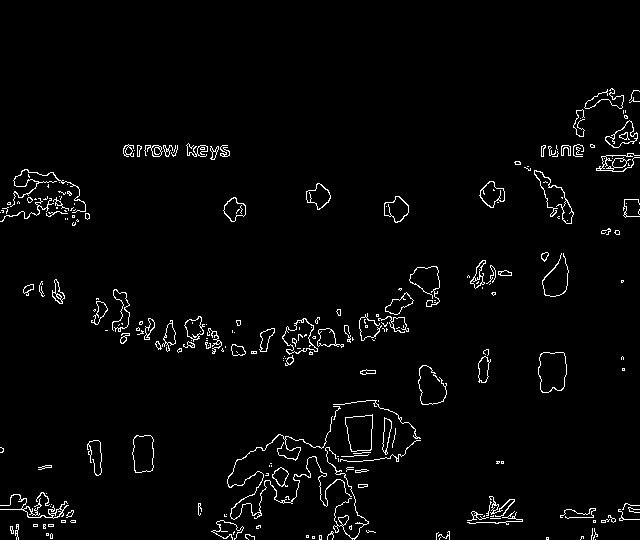left: (472, 174, 513, 217), (214, 191, 255, 232)
right: (296, 175, 340, 219), (375, 188, 416, 227)
